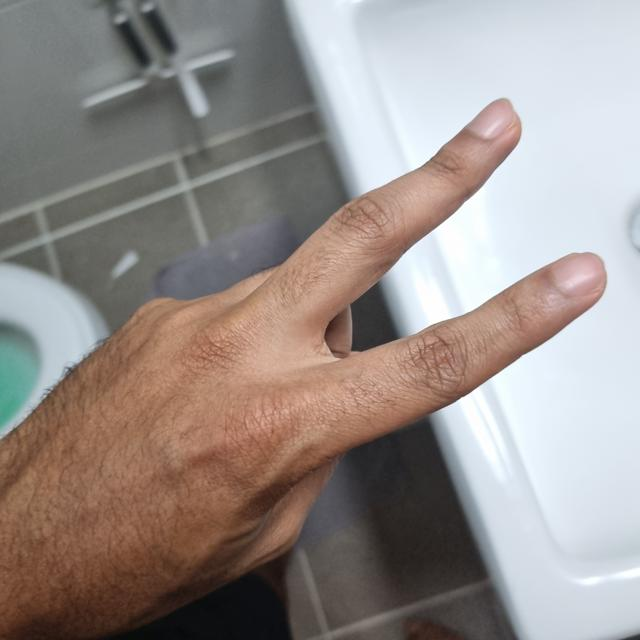Scissors: (4, 102, 601, 636)
